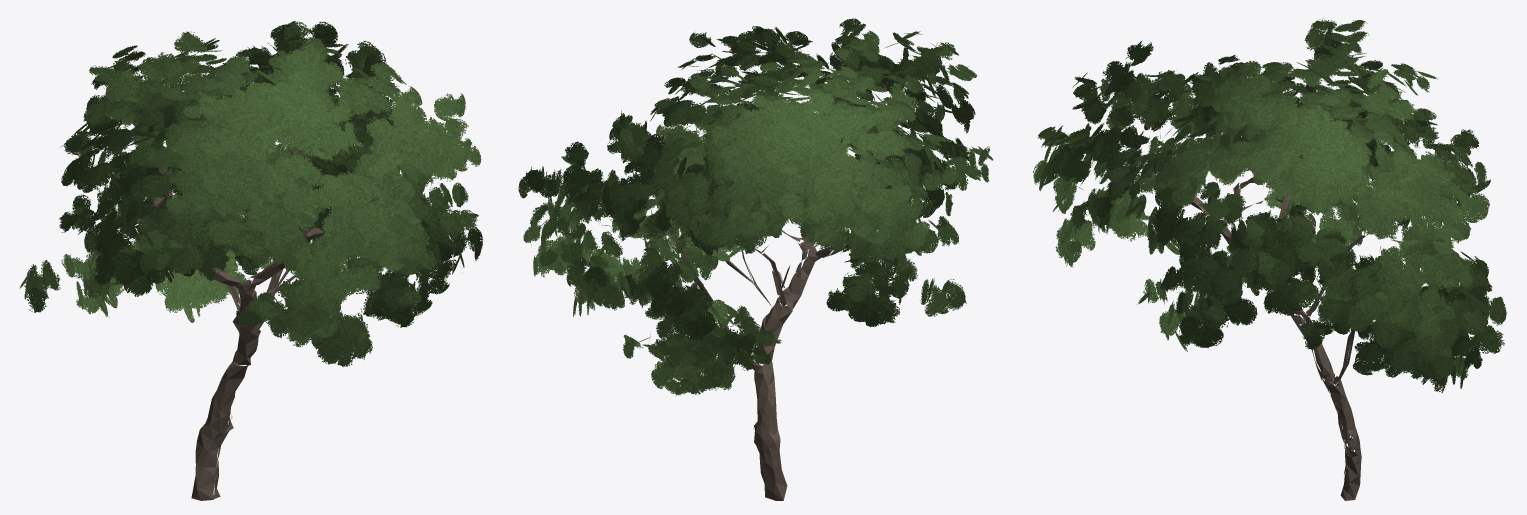
The model's file is tree.glb.
The picture shows the model from 3 angles, left to right: view 1: azimuth 30°, elevation 25°; view 2: azimuth 150°, elevation 25°; view 3: azimuth 270°, elevation 25°; orthographic projection. The views are drawn at different scales.
Visible parts, largest first — view 1: tree_foliage, tree_bark; view 2: tree_foliage, tree_bark; view 3: tree_foliage, tree_bark.
Boxes of the visible parts, x1,y1,x2,y2 form: tree_foliage: (19,21,482,366); tree_bark: (93,104,398,500); tree_foliage: (518,18,993,395); tree_bark: (596,65,946,500); tree_foliage: (1033,18,1506,393); tree_bark: (1075,77,1461,500).
Bounding box in the file's own units: 1.02 × 1.02 × 1.03.
2 materials, 1 textured.
